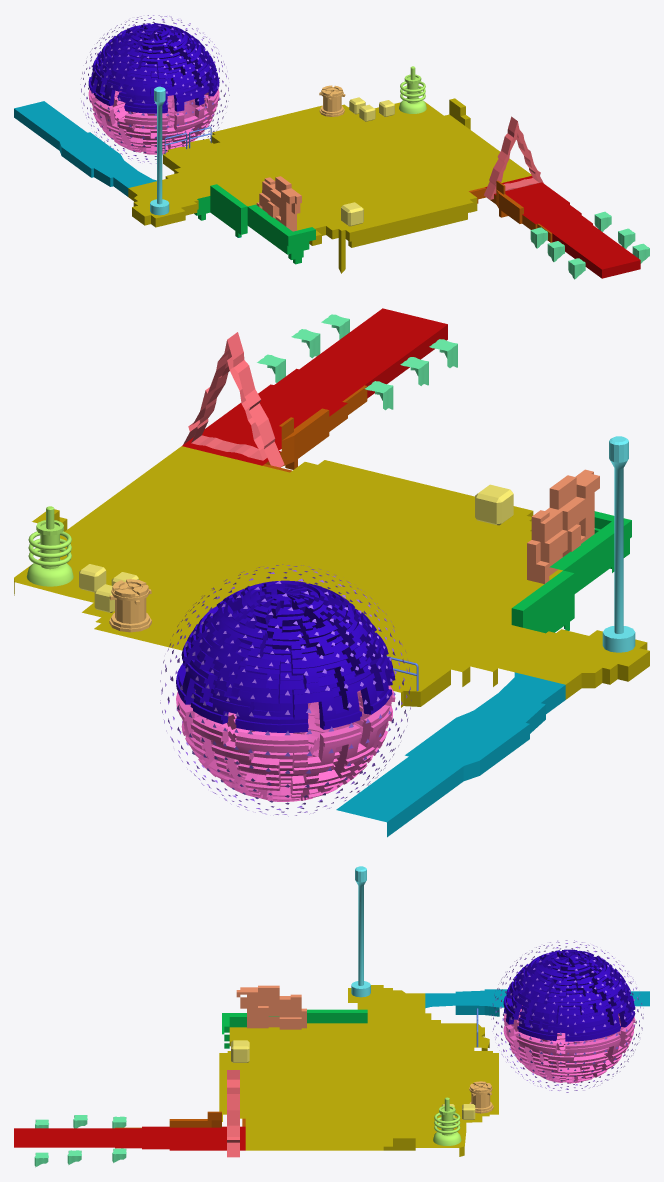
Rendered from fourth.FBX.
3 views of the same model, one above another, from view 1: azimuth 30°, elevation 25°; view 2: azimuth 150°, elevation 25°; view 3: azimuth 270°, elevation 25° (orthographic). The views are drawn at different scales.
Visible parts, largest first — view 1: Plane001, Sphere001, Box093, Torus001, Box024, Cylinder031, Spindle001, ChamferBox007; view 2: Plane001, Sphere001, Box093, Torus001, Box024, Cylinder031, Spindle001, ChamferBox007, Cylinder030, Torus008; view 3: Plane001, Sphere001, Box093, Box024, Torus001, Cylinder031, Spindle001.
Boxes of the visible parts, left/top/right/bottom form: Plane001: left=14, top=98, right=640, bottom=278; Sphere001: left=88, top=23, right=219, bottom=154; Box093: left=256, top=176, right=301, bottom=231; Torus001: left=484, top=116, right=543, bottom=199; Box024: left=80, top=15, right=229, bottom=163; Cylinder031: left=150, top=86, right=169, bottom=215; Spindle001: left=319, top=85, right=345, bottom=116; ChamferBox007: left=341, top=202, right=363, bottom=226; Plane001: left=14, top=308, right=649, bottom=837; Sphere001: left=176, top=580, right=395, bottom=801; Box093: left=527, top=469, right=599, bottom=583; Torus001: left=183, top=332, right=284, bottom=467; Box024: left=160, top=564, right=411, bottom=816; Cylinder031: left=602, top=436, right=635, bottom=652; Spindle001: left=109, top=579, right=151, bottom=632; ChamferBox007: left=475, top=484, right=513, bottom=525; Cylinder030: left=36, top=506, right=63, bottom=569; Torus008: left=26, top=559, right=73, bottom=586; Plane001: left=14, top=985, right=649, bottom=1156; Sphere001: left=503, top=949, right=635, bottom=1083; Box093: left=236, top=985, right=306, bottom=1029; Box024: left=491, top=940, right=643, bottom=1092; Torus001: left=227, top=1070, right=239, bottom=1157; Cylinder031: left=351, top=866, right=370, bottom=997; Spindle001: left=469, top=1081, right=493, bottom=1113.
Bounding box in the file's own units: 2.69 × 1.22 × 4.16.
